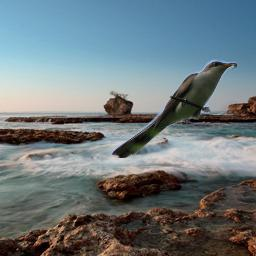Cuckoo: (111, 59, 237, 158)
